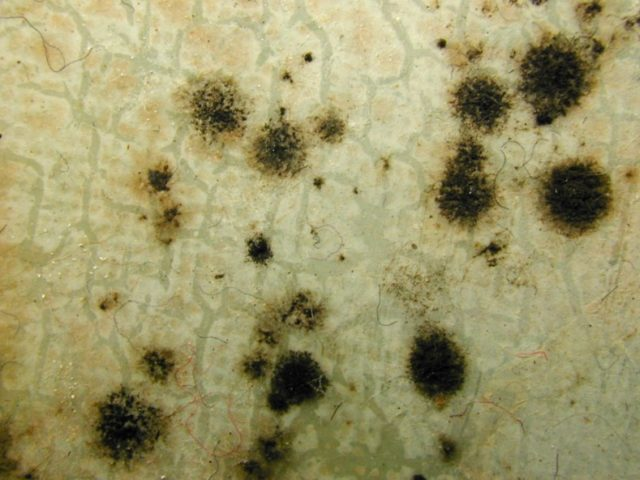Cladosporium: (229, 288, 327, 402), (520, 16, 606, 119), (84, 388, 170, 464), (182, 64, 254, 153), (405, 315, 465, 414), (544, 143, 610, 232), (441, 134, 500, 219), (134, 160, 188, 241), (377, 250, 447, 307)
